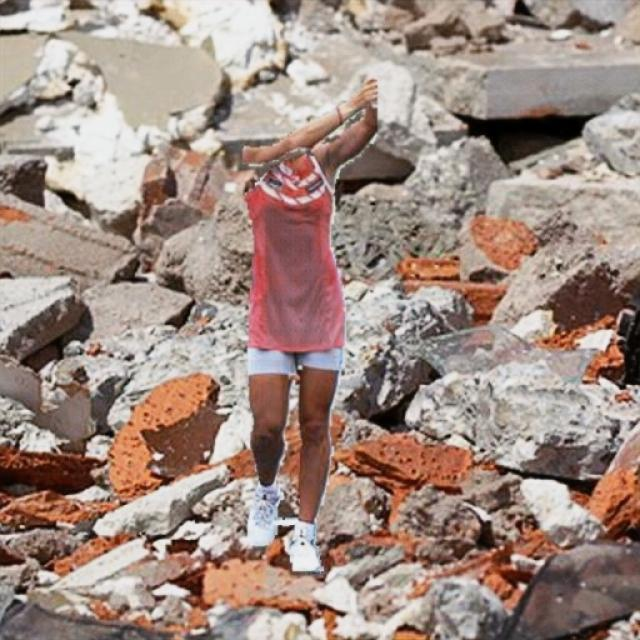Person in Rubble: (242, 78, 376, 572)
